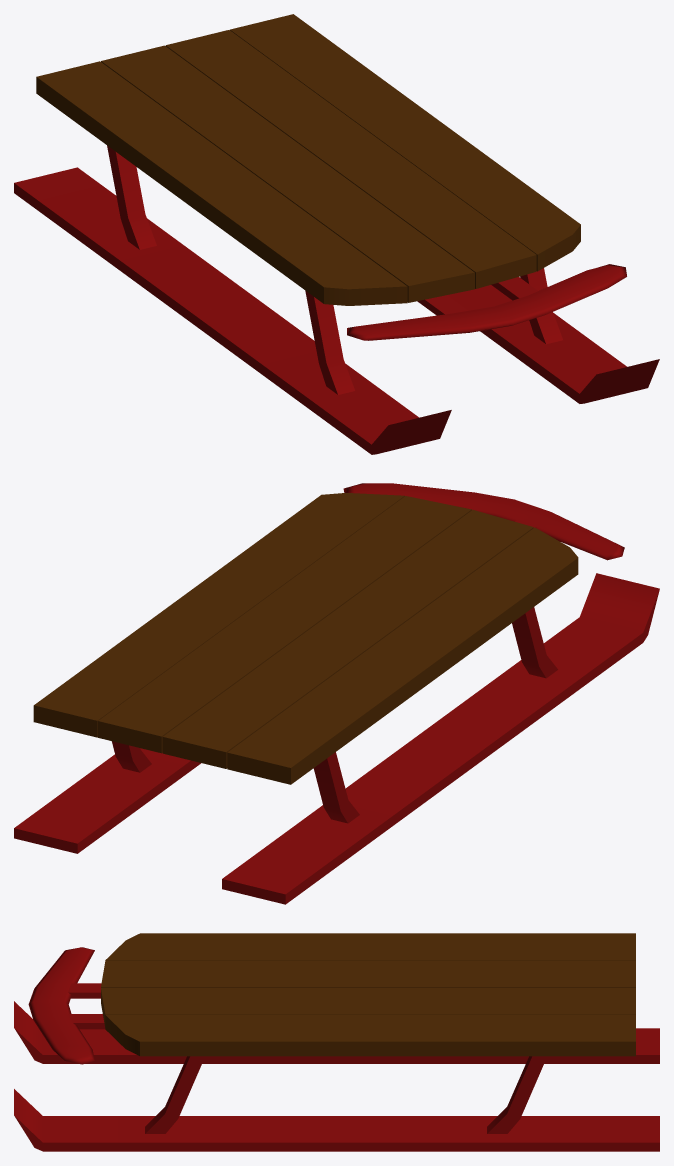
Rendered from sled_old_02.fbx.
3 views of the same model, one above another, from view 1: azimuth 30°, elevation 25°; view 2: azimuth 150°, elevation 25°; view 3: azimuth 270°, elevation 25° (orthographic). The views are drawn at different scales.
Parts seen in each view (by area): view 1: sled; view 2: sled; view 3: sled.
Part boxes in pixels (<box>): sled: <box>14,14,659,454</box>; sled: <box>14,483,659,904</box>; sled: <box>14,933,659,1151</box>.
Bounding box in the file's own units: 0.8349 × 0.3558 × 1.94.
